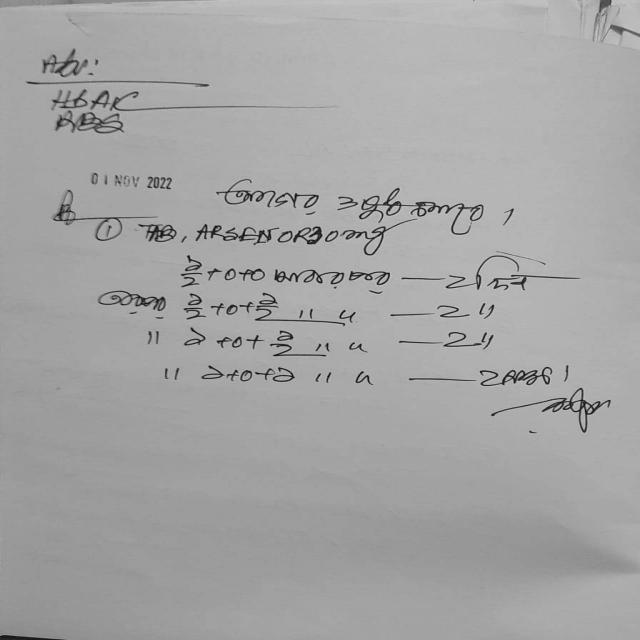Arsenor: (184, 217, 312, 250)
